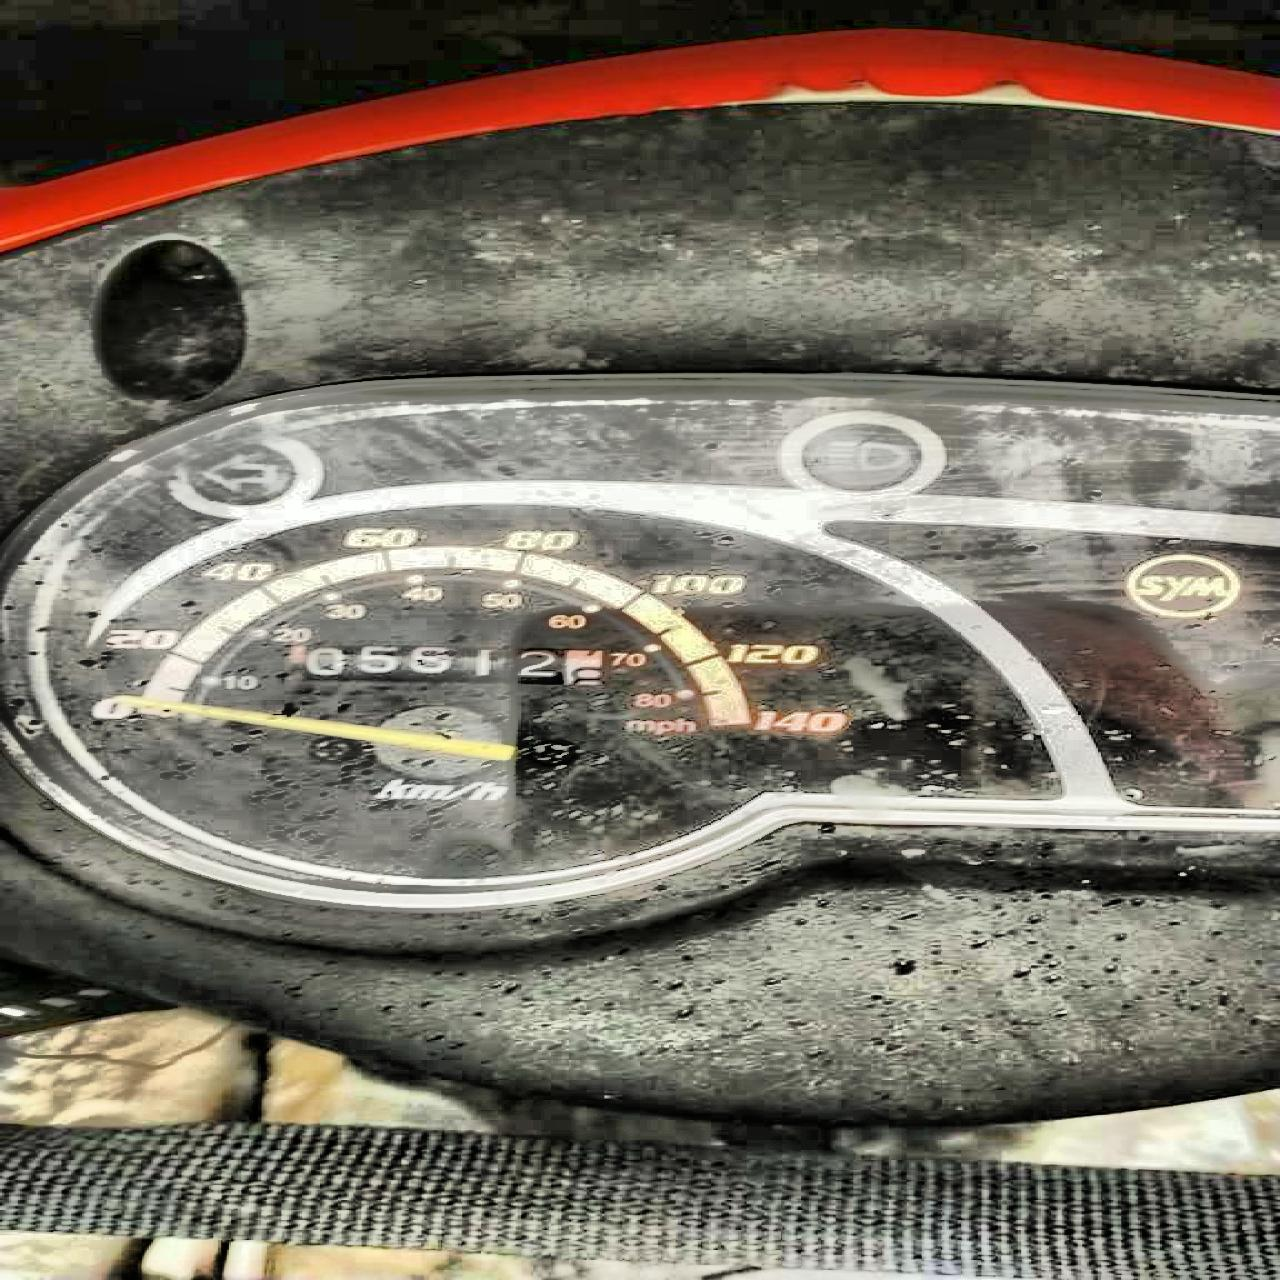0: (302, 645, 347, 678)
1: (474, 647, 496, 682)
2: (511, 646, 556, 679)
8: (404, 644, 456, 676), (567, 662, 602, 688)
odometer: (280, 641, 607, 690)
